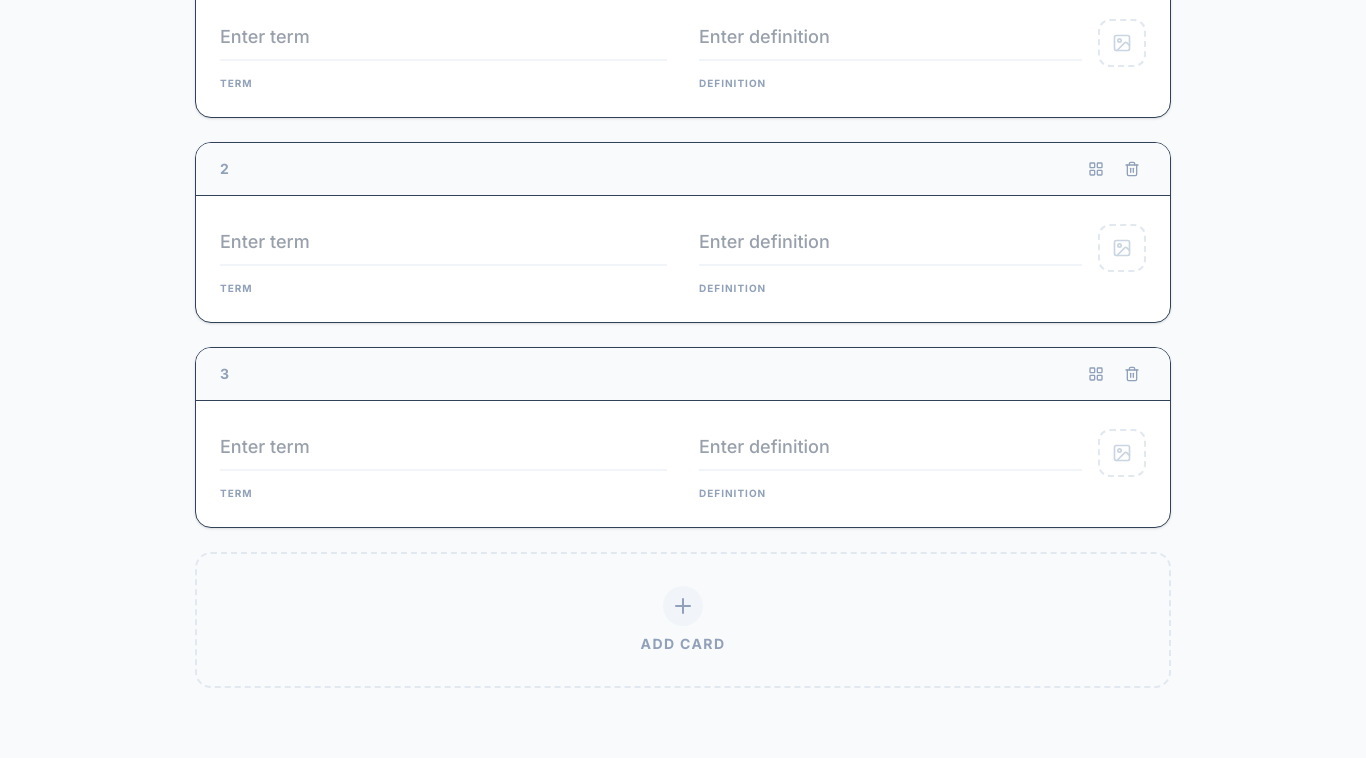
Test case: SetEditor — handleSave › adds a card row when + Add Card is clicked
(page scrolled)
Click the button "Add Card": (683, 620) [195,552,1171,688]
(page scrolled)
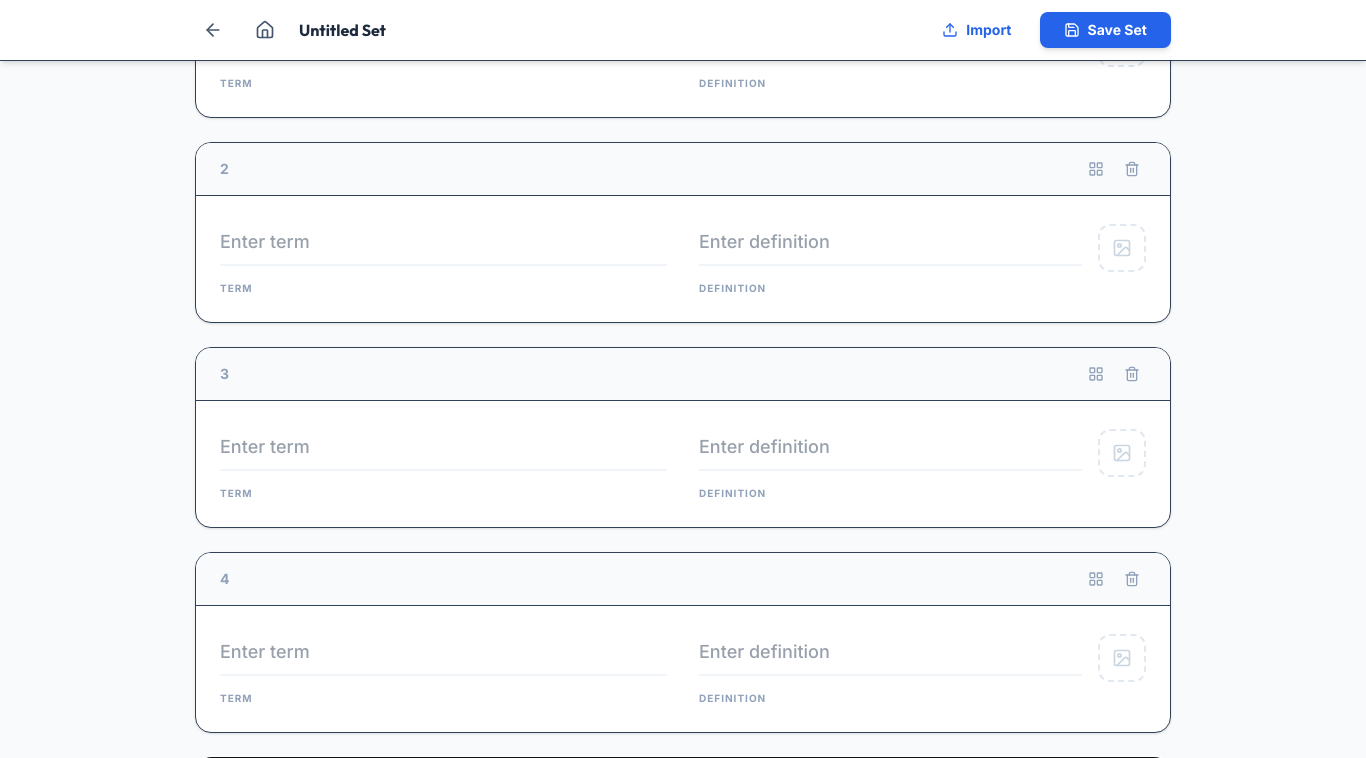
Expected: the number of fields with placeholder "Enter term" is 4, [220,15,667,61]; [220,220,667,266]; [220,425,667,471]; [220,630,667,676]
